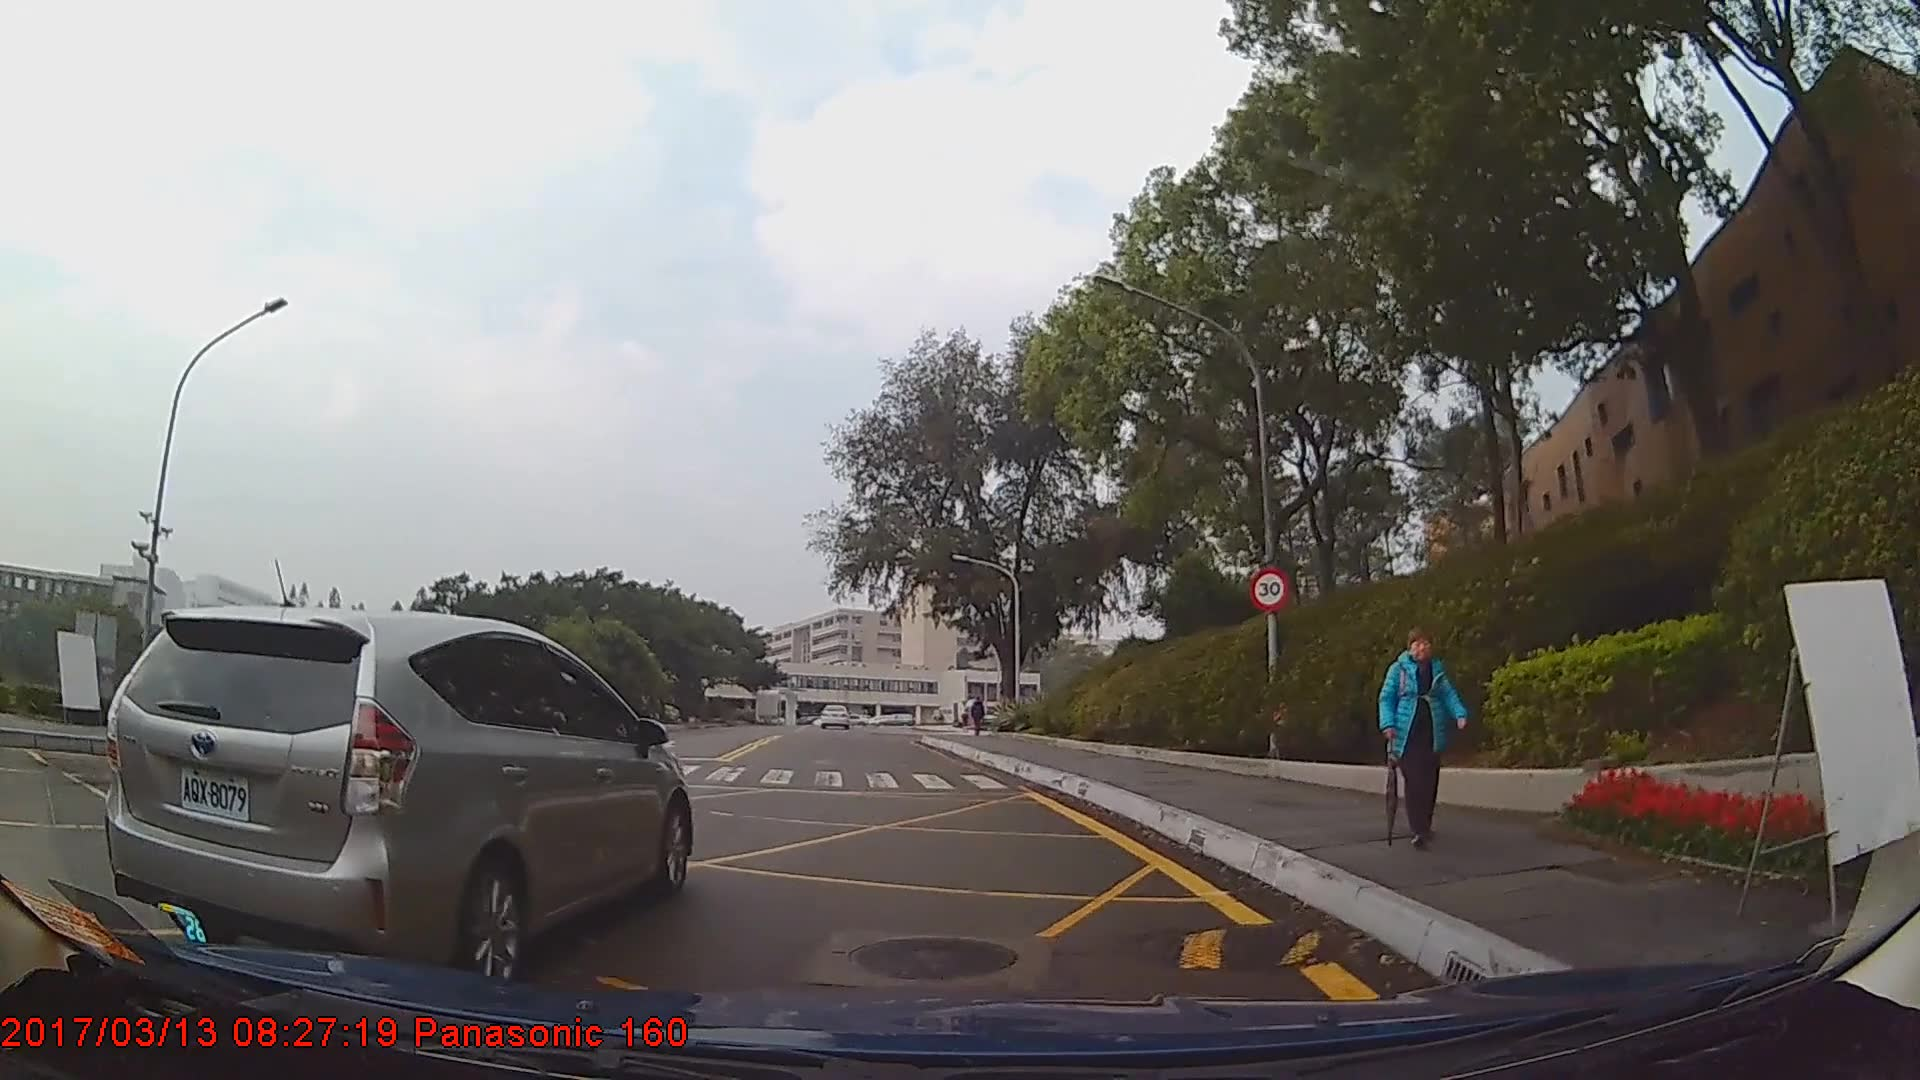pedestrian: (1366, 612, 1483, 867), (970, 697, 990, 738)
vehicle: (103, 609, 693, 984), (816, 701, 850, 728)
